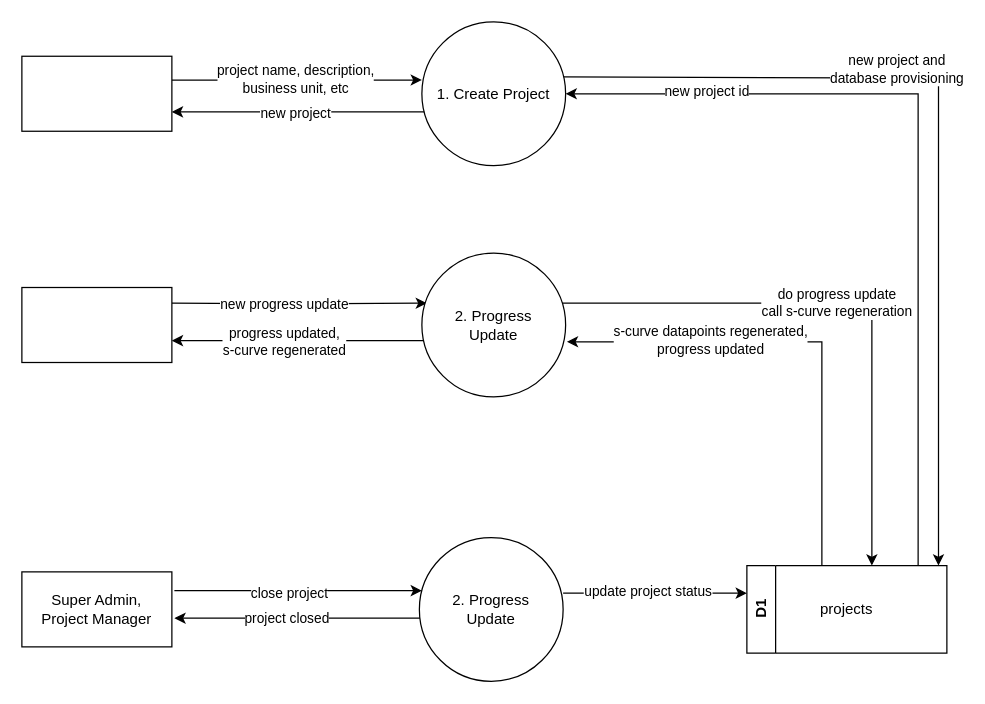
The diagram is 985 pixels wide and 704 high, and some of its shapes have lost their labels. The box of each missing label's shape, as (x1, y1, x2, y2) in pixels:
Authorized Users: (21, 286, 172, 362)
Super Admin: (21, 55, 172, 131)
